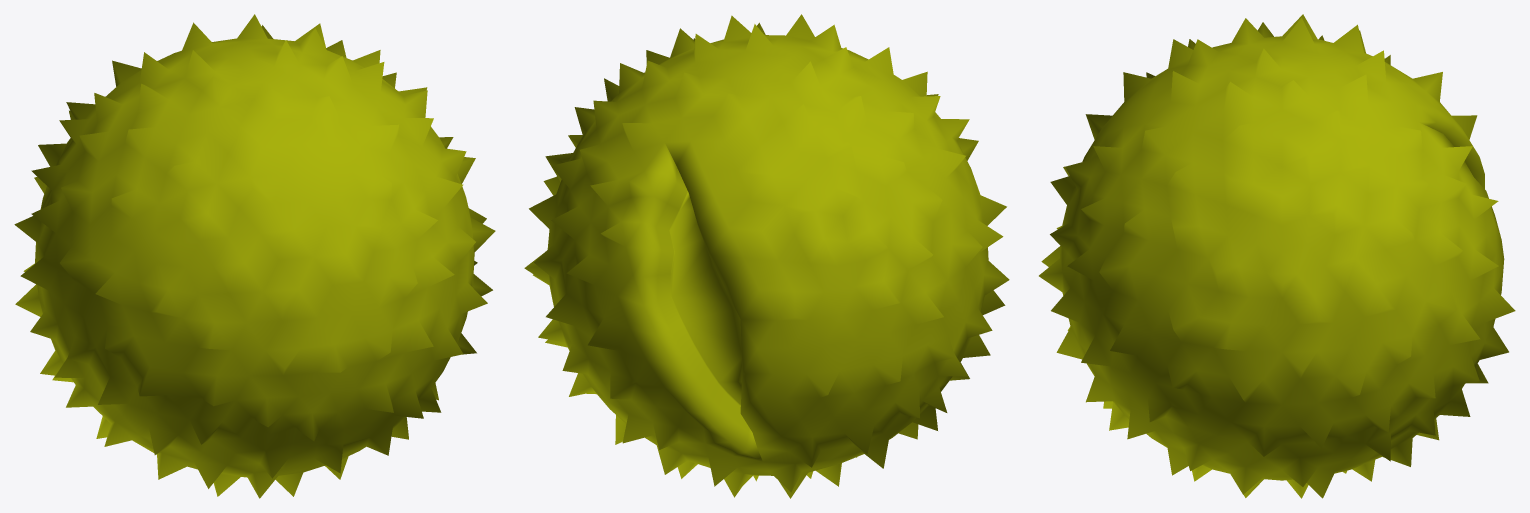
Rendered from ClosedChestnut01.fbx.
The picture shows the model from 3 angles, left to right: view 1: azimuth 30°, elevation 25°; view 2: azimuth 150°, elevation 25°; view 3: azimuth 270°, elevation 25°; orthographic projection.
Parts seen in each view (by area): view 1: chestnut split open; view 2: chestnut split open; view 3: chestnut split open.
Part boxes in pixels (box(x1,y1,x2,y2)): chestnut split open: box(14, 14, 495, 498); chestnut split open: box(524, 14, 1009, 498); chestnut split open: box(1039, 14, 1515, 498).
Bounding box in the file's own units: 10.89 × 11.01 × 10.74.
